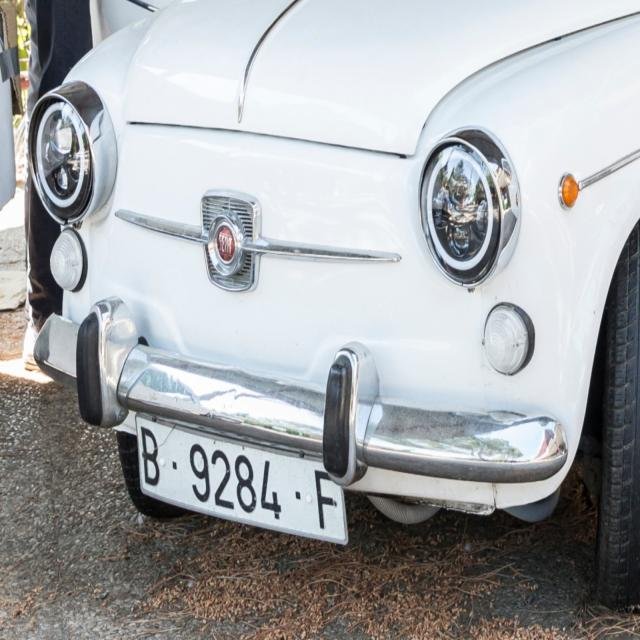license_plate-34Td: (135, 416, 347, 544)
